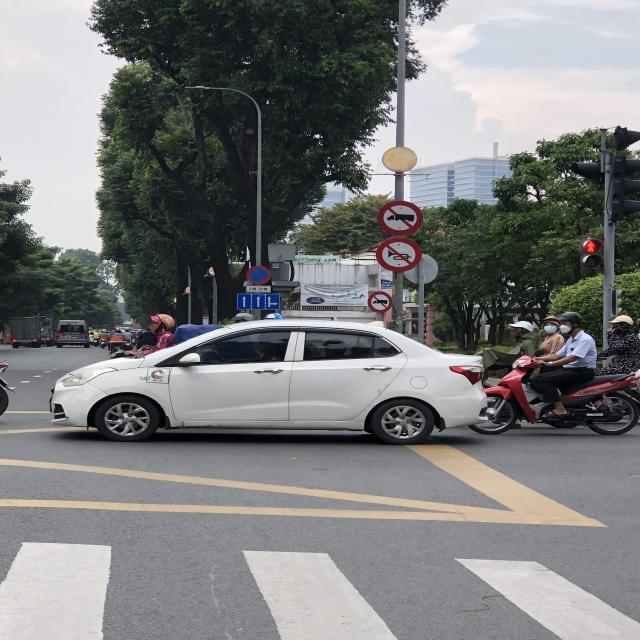Bien bao cam do xe: (244, 262, 272, 286)
Bien bao cam xe so-mi ro-mooc: (376, 197, 427, 237), (366, 288, 396, 314)
